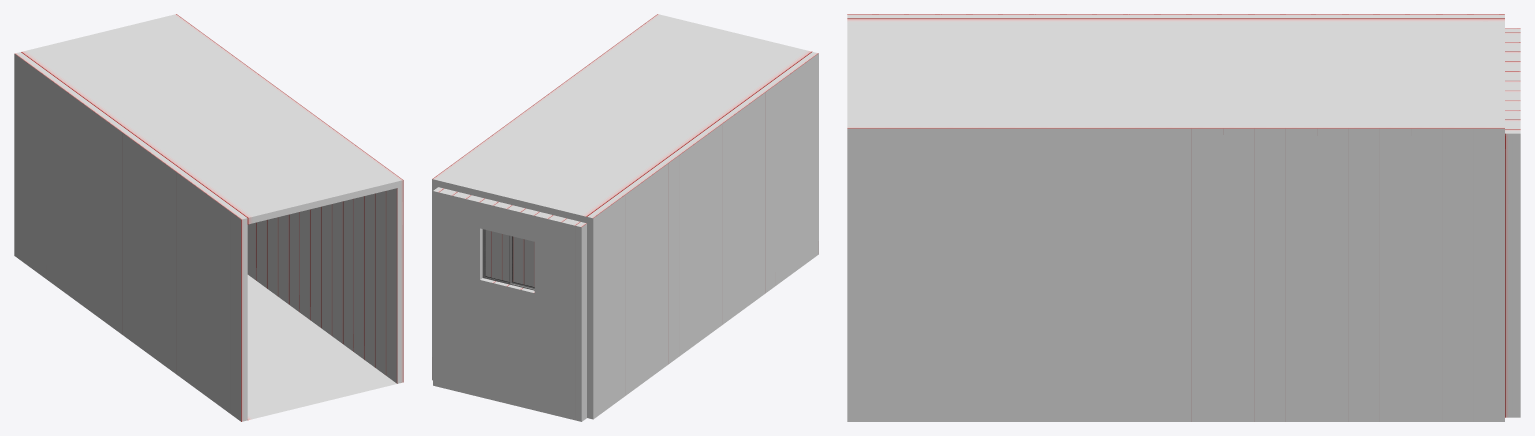
Rendered from bathroom.glb.
The picture shows the model from 3 angles, left to right: view 1: azimuth 30°, elevation 25°; view 2: azimuth 150°, elevation 25°; view 3: azimuth 270°, elevation 25°; orthographic projection. The views are drawn at different scales.
Parts seen in each view (by area): view 1: side_walls, ceiling, floor, back_wall; view 2: side_walls, back_wall, ceiling, 3DGeom-17, 3DGeom-15; view 3: side_walls, ceiling, back_wall.
Boxes of the visible parts, left/top/right/bottom form: side_walls: left=57, top=45, right=403, bottom=421; ceiling: left=21, top=15, right=397, bottom=224; floor: left=247, top=275, right=396, bottom=420; back_wall: left=14, top=14, right=219, bottom=287; side_walls: left=475, top=14, right=818, bottom=387; back_wall: left=432, top=147, right=636, bottom=421; ceiling: left=438, top=15, right=812, bottom=223; 3DGeom-17: left=485, top=230, right=534, bottom=287; 3DGeom-15: left=482, top=229, right=534, bottom=290; side_walls: left=847, top=14, right=1379, bottom=421; ceiling: left=847, top=18, right=1504, bottom=124; back_wall: left=1379, top=14, right=1520, bottom=421.
Size of the model in its own units: 2.6 by 3.1 by 6.45.
9 materials, 2 textured.
